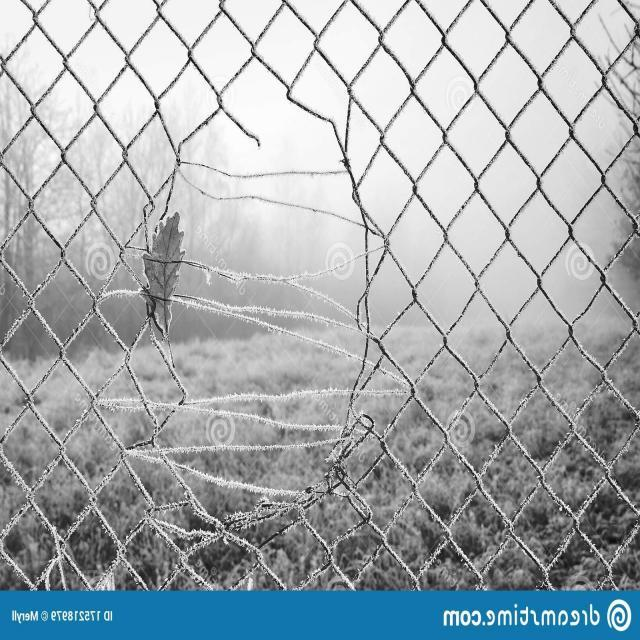fence line: (143, 109, 367, 491)
